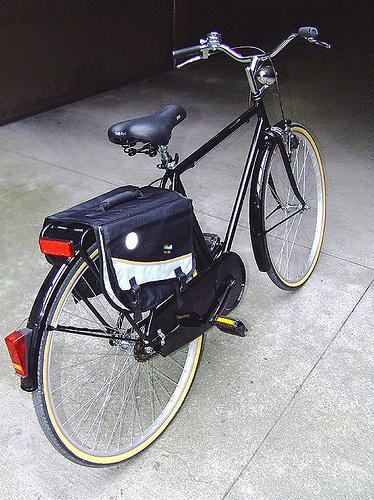car: (5, 28, 332, 470)
